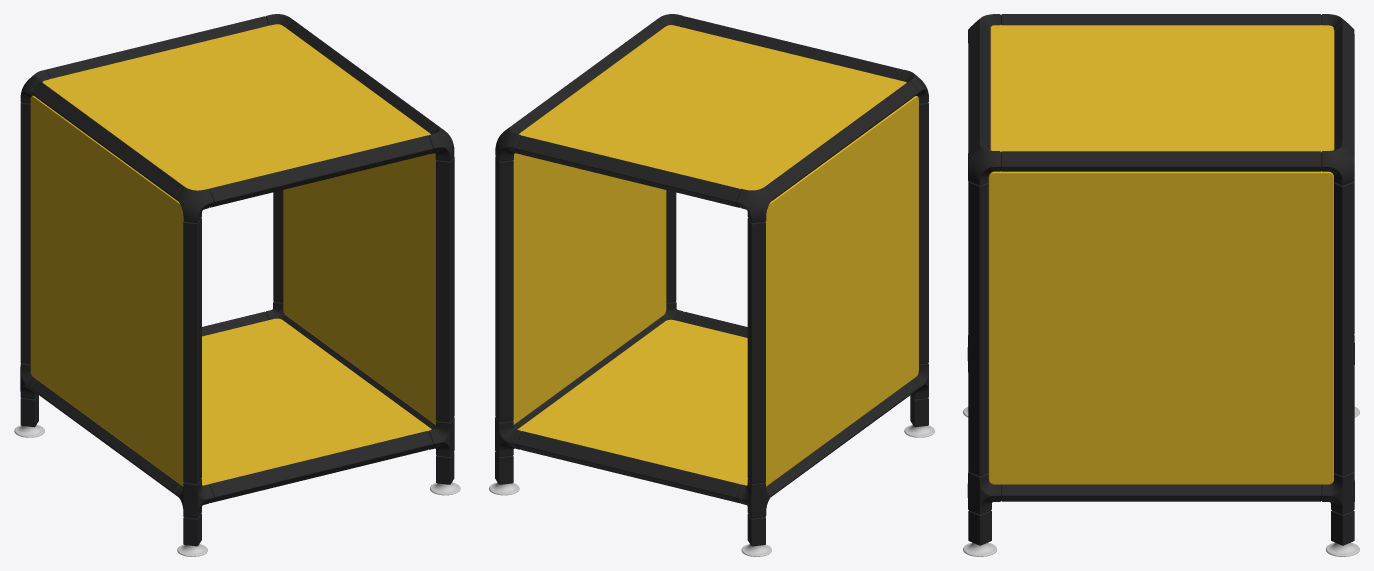
3 views of the same model, side by side, from view 1: azimuth 30°, elevation 25°; view 2: azimuth 150°, elevation 25°; view 3: azimuth 270°, elevation 25° (orthographic). The views are drawn at different scales.
Visible parts, largest first — view 1: 329x374x374; view 2: 329x374x374; view 3: 329x374x374.
Boxes of the visible parts, box(x1,y1,x2,y2) form: 329x374x374: box(14, 14, 460, 556); 329x374x374: box(489, 14, 934, 556); 329x374x374: box(963, 14, 1359, 556).
Bounding box in the file's own units: 0.4189 × 0.5133 × 0.4632.
